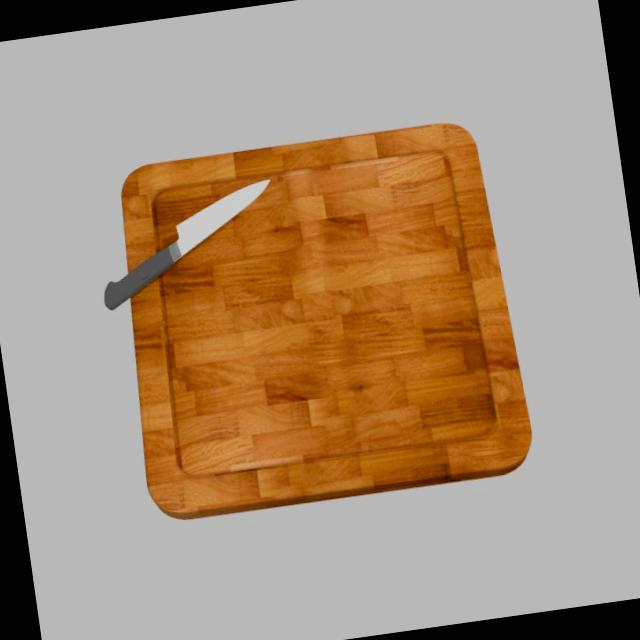knife: (100, 246, 180, 312)
